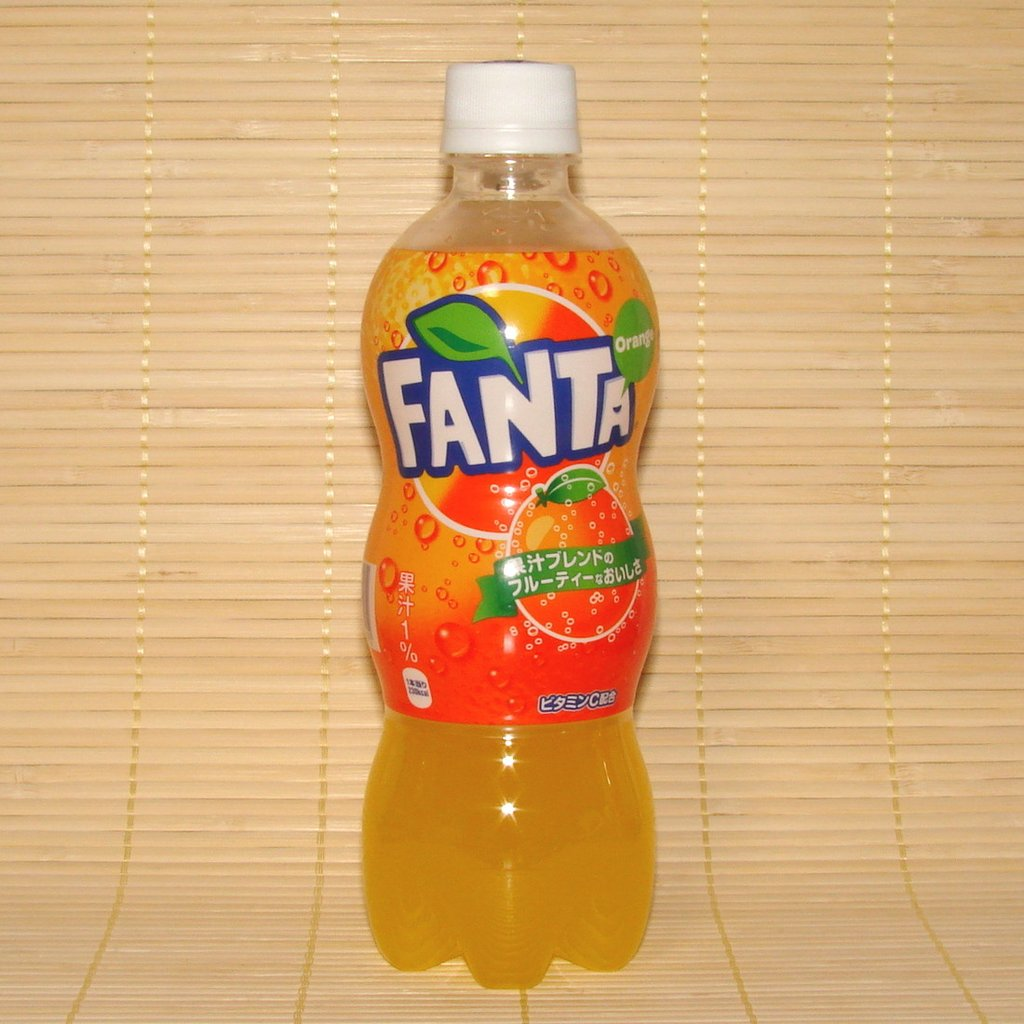fanta: (372, 111, 655, 977)
